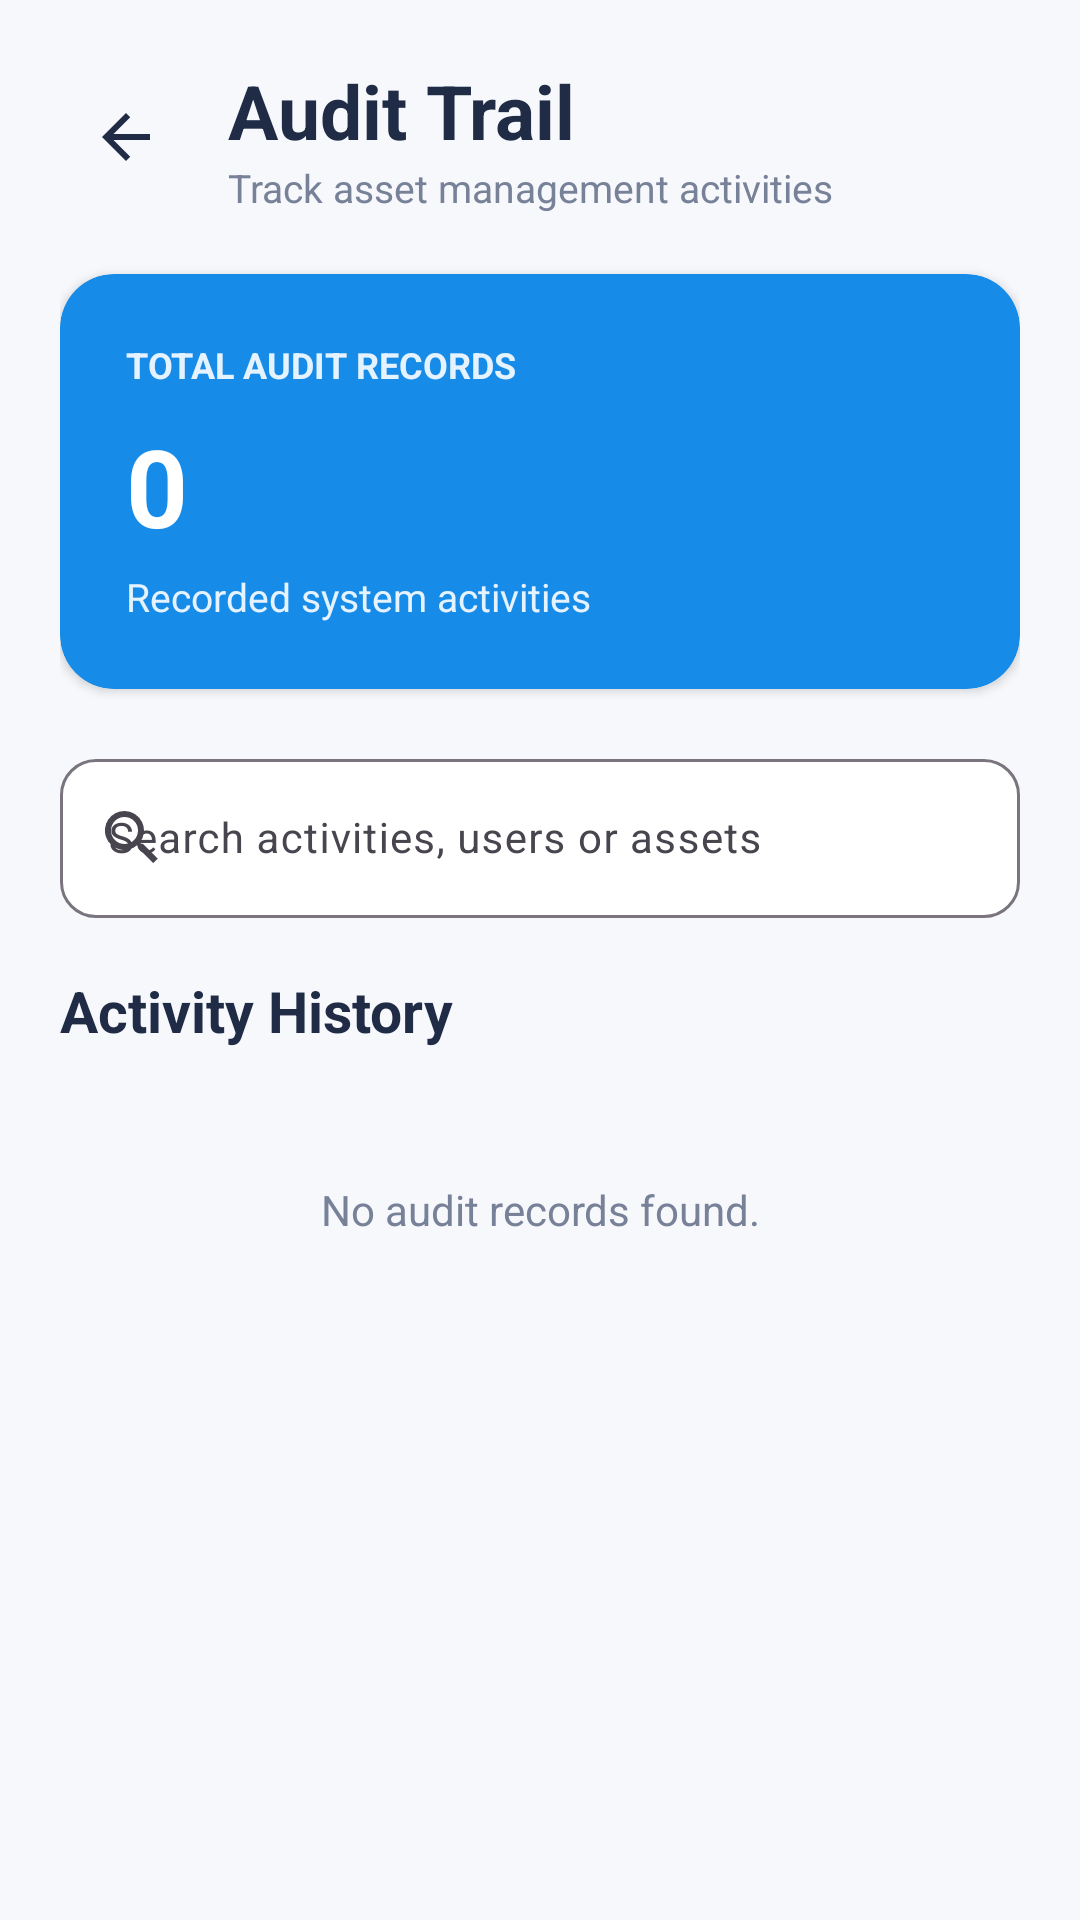

Named icons in this screenshot (1080×1920) and their centers, (x,y):
Go back: (126,137)
